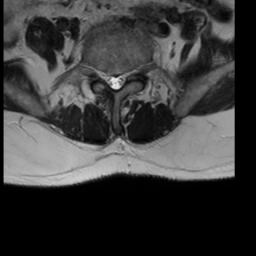CCS_severe_stenosis: (112, 67, 119, 97)
LFS_stenosis: (127, 60, 136, 83)
LLS_normal: (119, 67, 127, 91)
RFS_normal: (97, 61, 104, 87)
RLS_normal: (104, 67, 112, 91)
